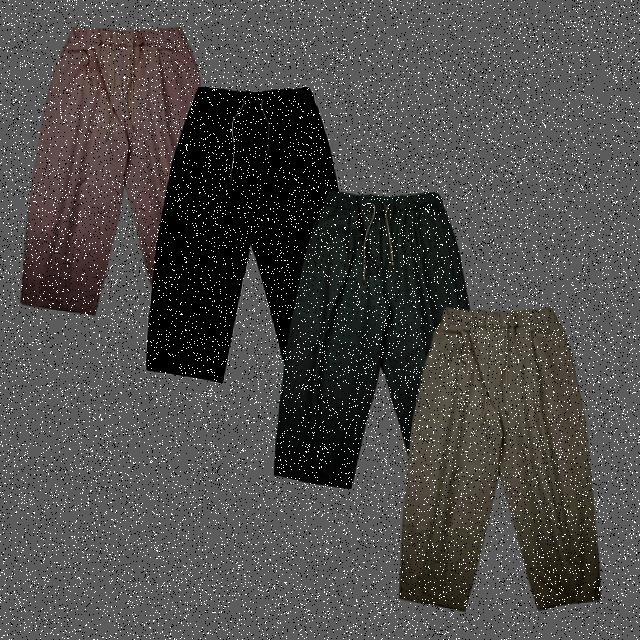Blouse_deep: (275, 177, 462, 507), (408, 305, 608, 602), (153, 78, 342, 382), (32, 20, 212, 302)
